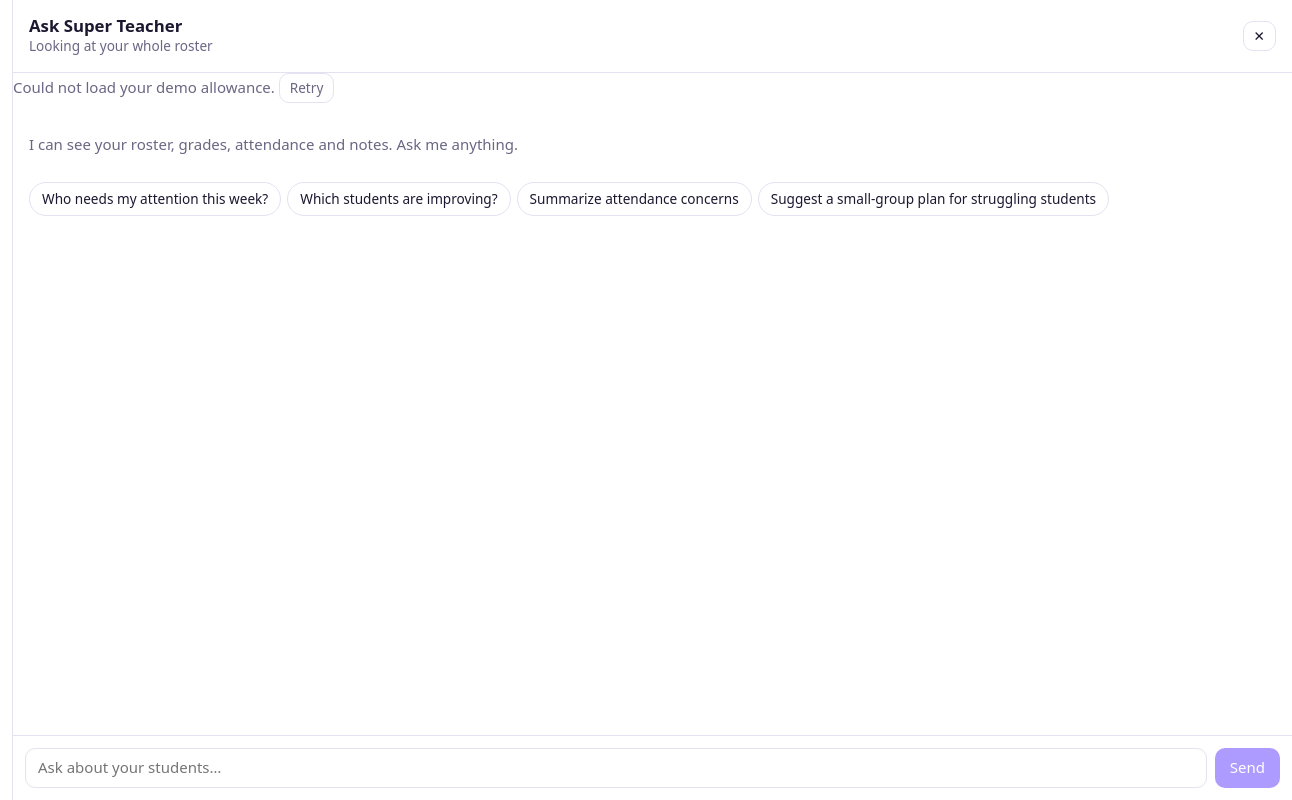
it: blocks spending until a valid allowance loads and offers retry after failure
The width and height of the screenshot is (1292, 800).
expect the field named "Message" is disabled: met, box [25, 748, 1207, 788]
Step 1. Click the button "Retry" → (306, 88), box [279, 73, 334, 103]
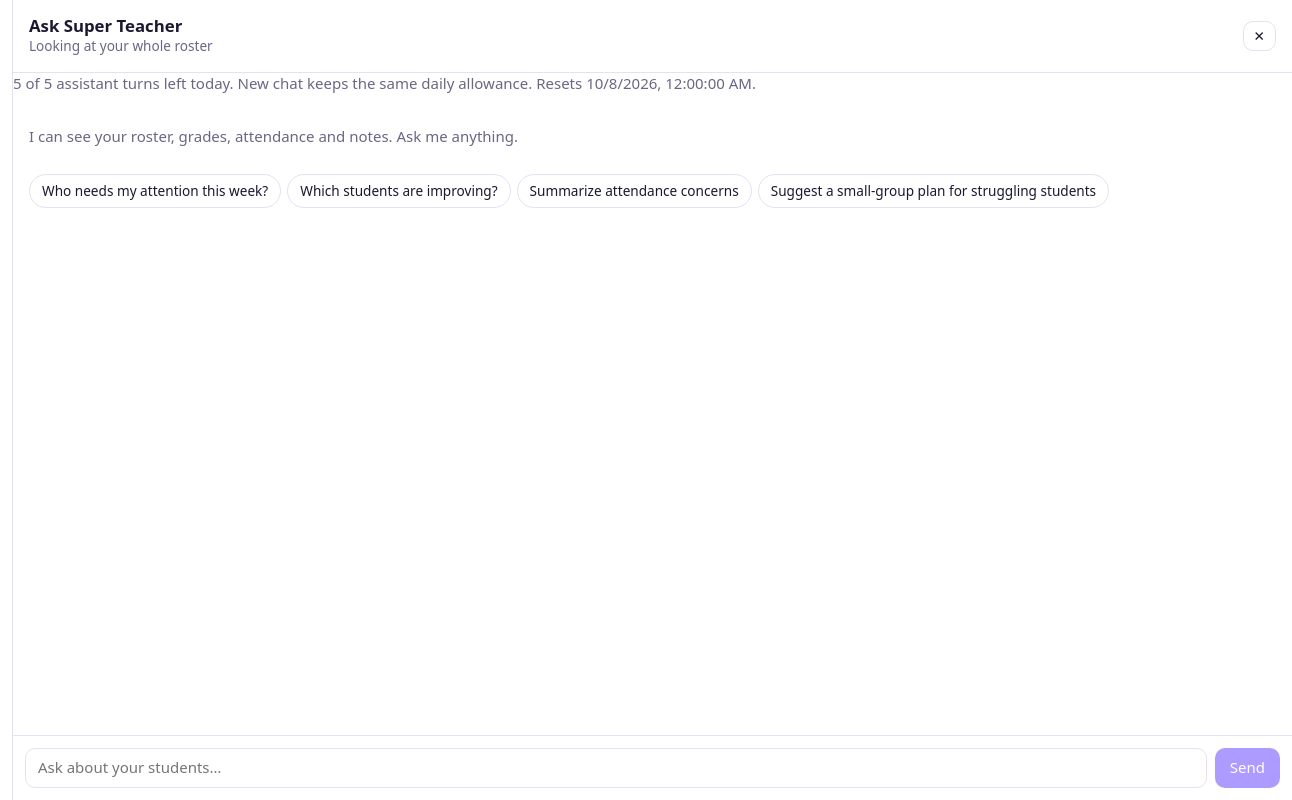
expect the field named "Message" is enabled: met, box [25, 748, 1207, 788]
expect the text "5 of 5 assistant turns" is shown: met, box [13, 73, 756, 93]
